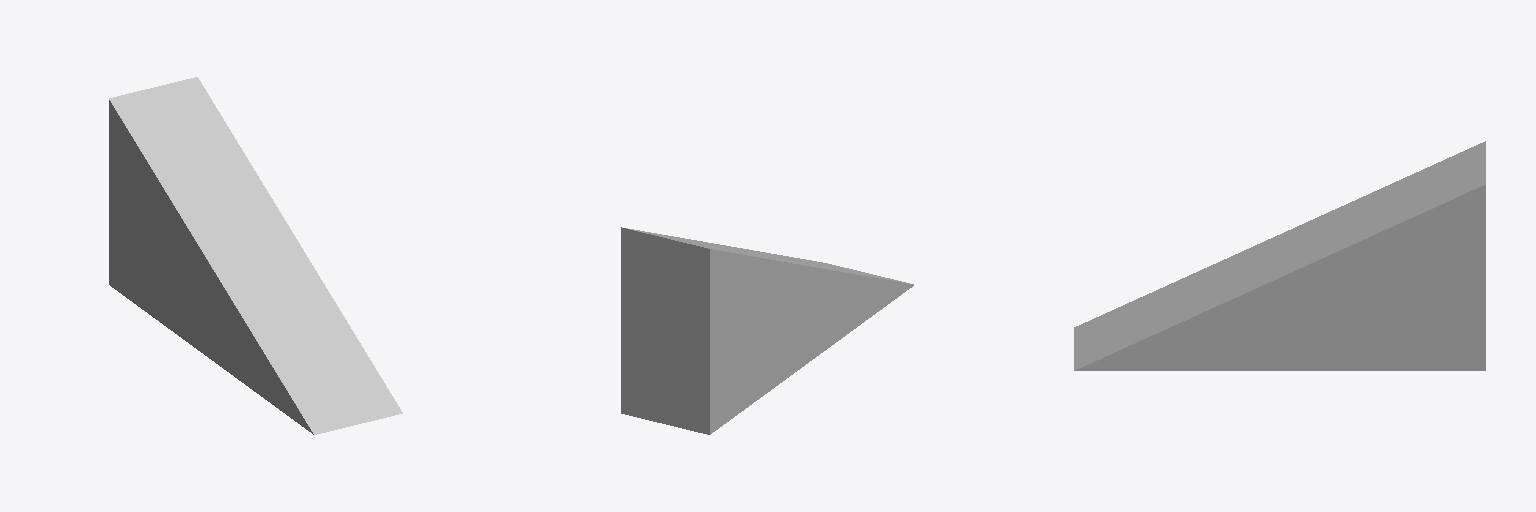
File: block-wedge-4x2x1.obj
The picture shows the model from 3 angles: view 1: azimuth 30°, elevation 25°; view 2: azimuth 150°, elevation 25°; view 3: azimuth 270°, elevation 25°; orthographic projection.
Bounding box in the file's own units: 1 × 2 × 4.